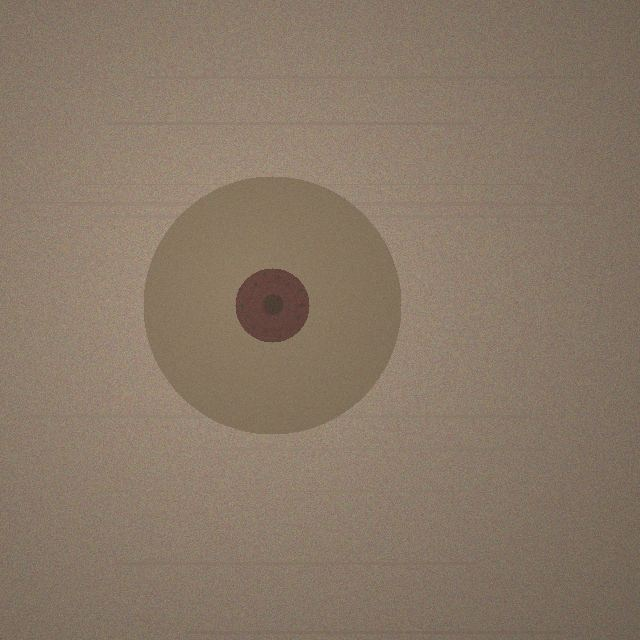cold_weld: (143, 176, 401, 434)
